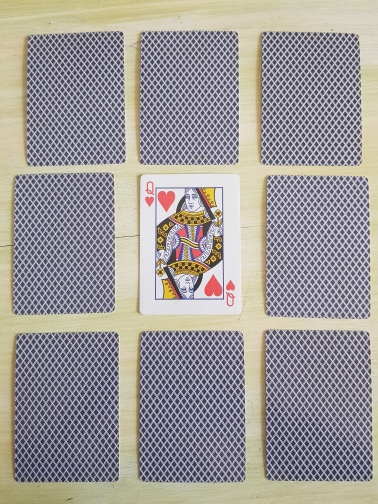queen: (137, 172, 243, 316)
